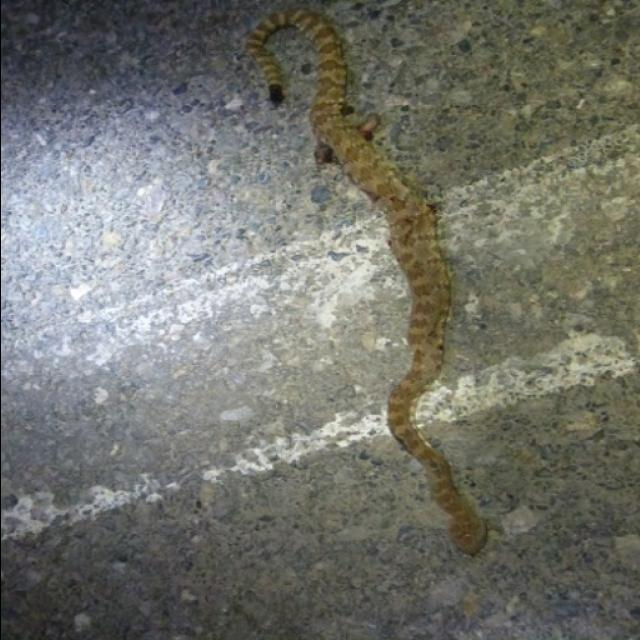snake: (228, 3, 520, 564)
